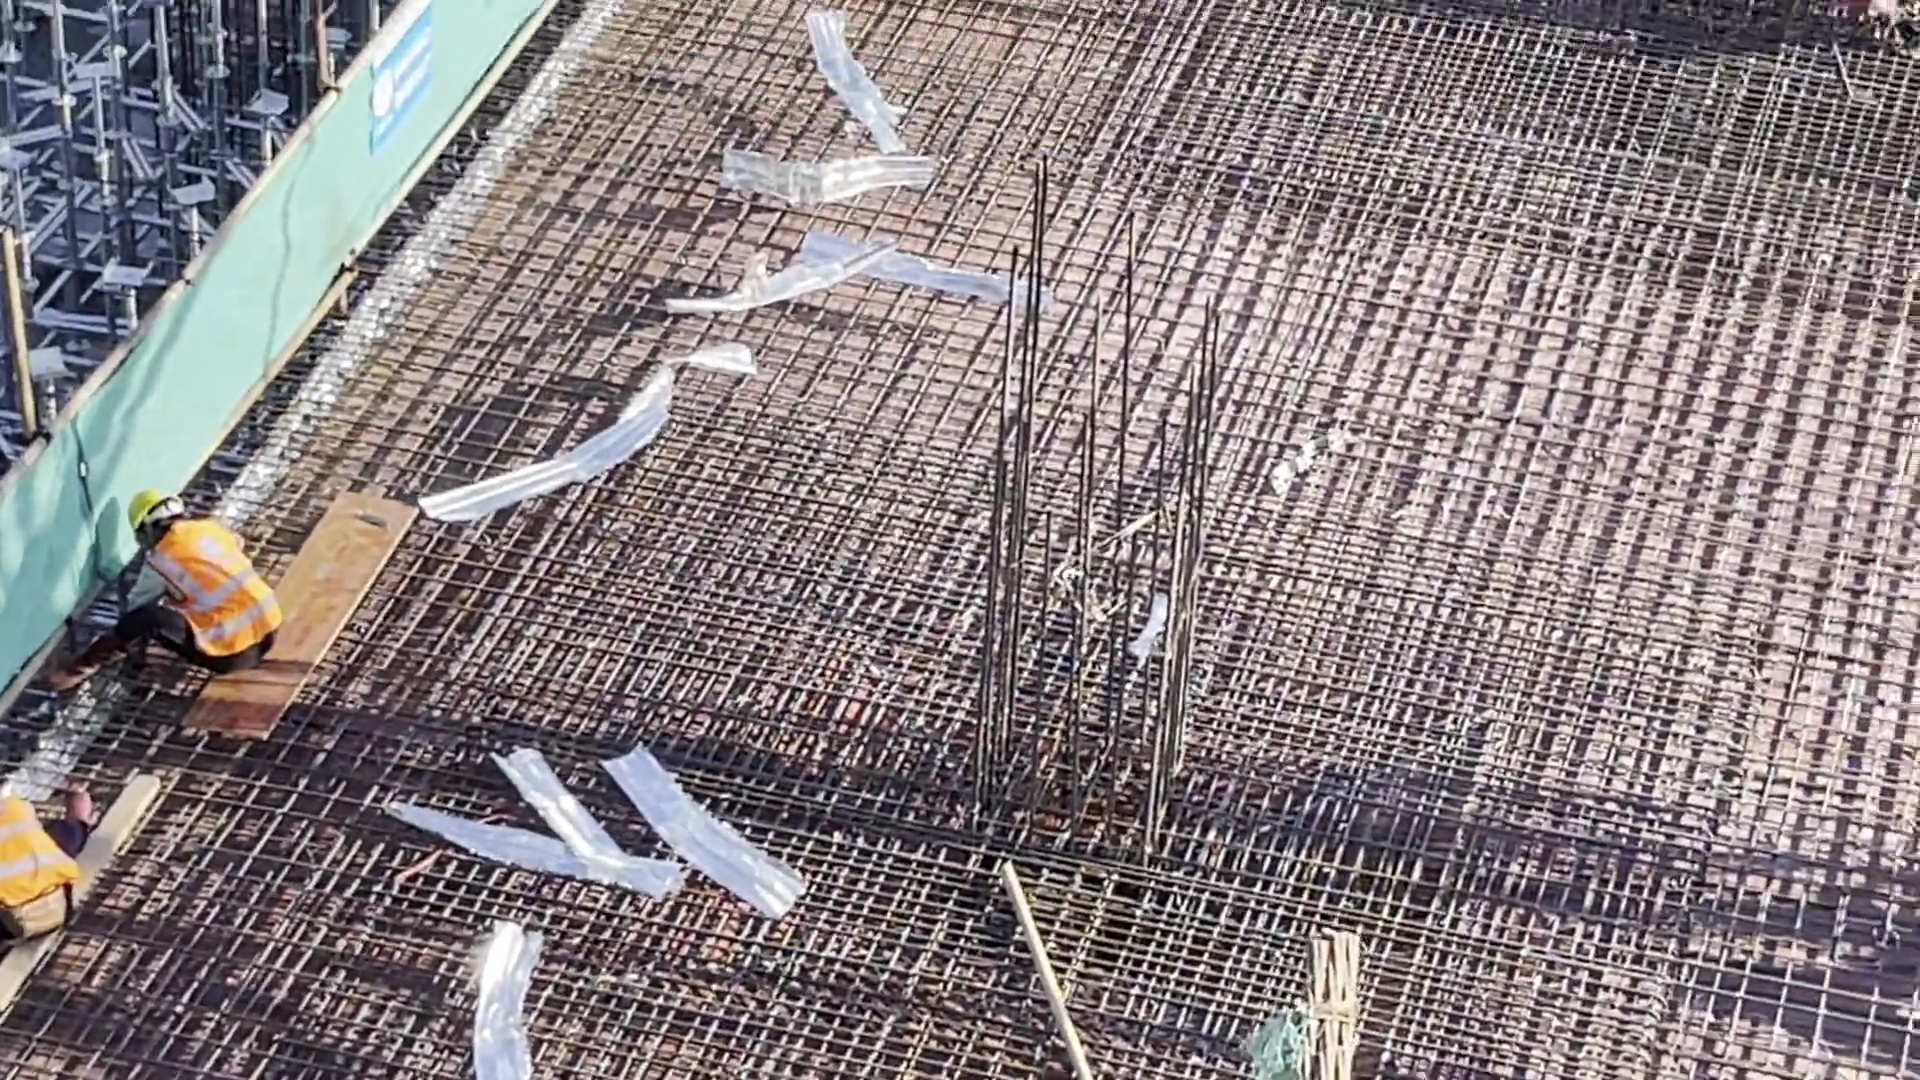helmet: (128, 490, 173, 517)
person: (129, 495, 275, 671), (1, 792, 85, 942)
slogan: (371, 18, 428, 140)
vest: (146, 537, 280, 663), (1, 791, 78, 914)
